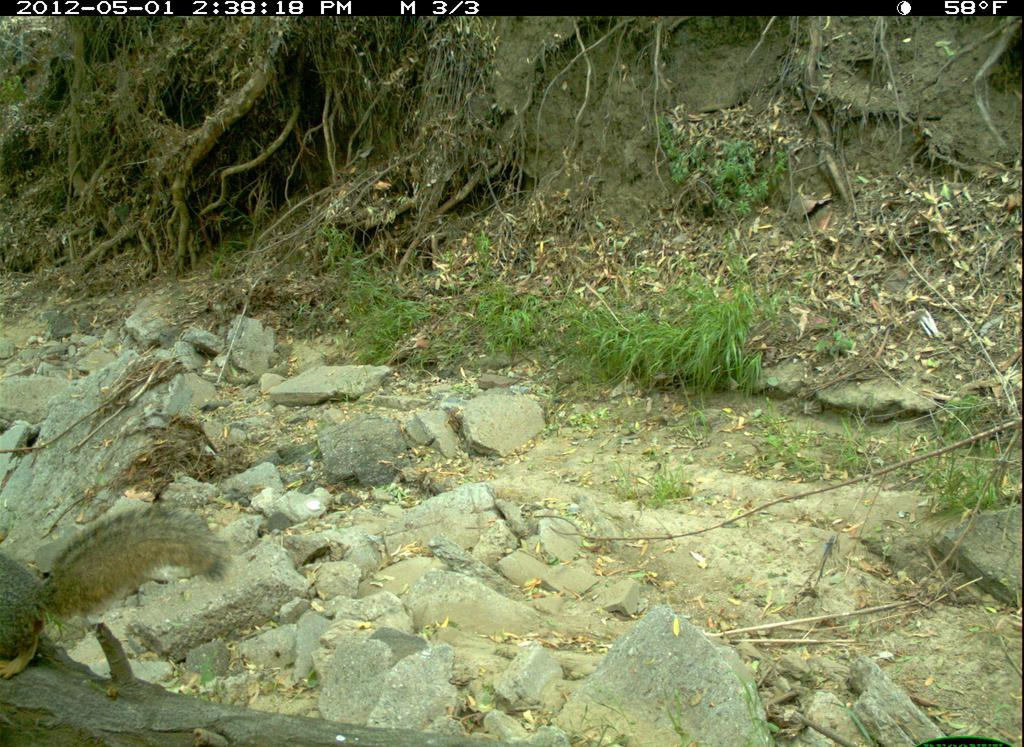squirrel: (4, 497, 240, 688)
